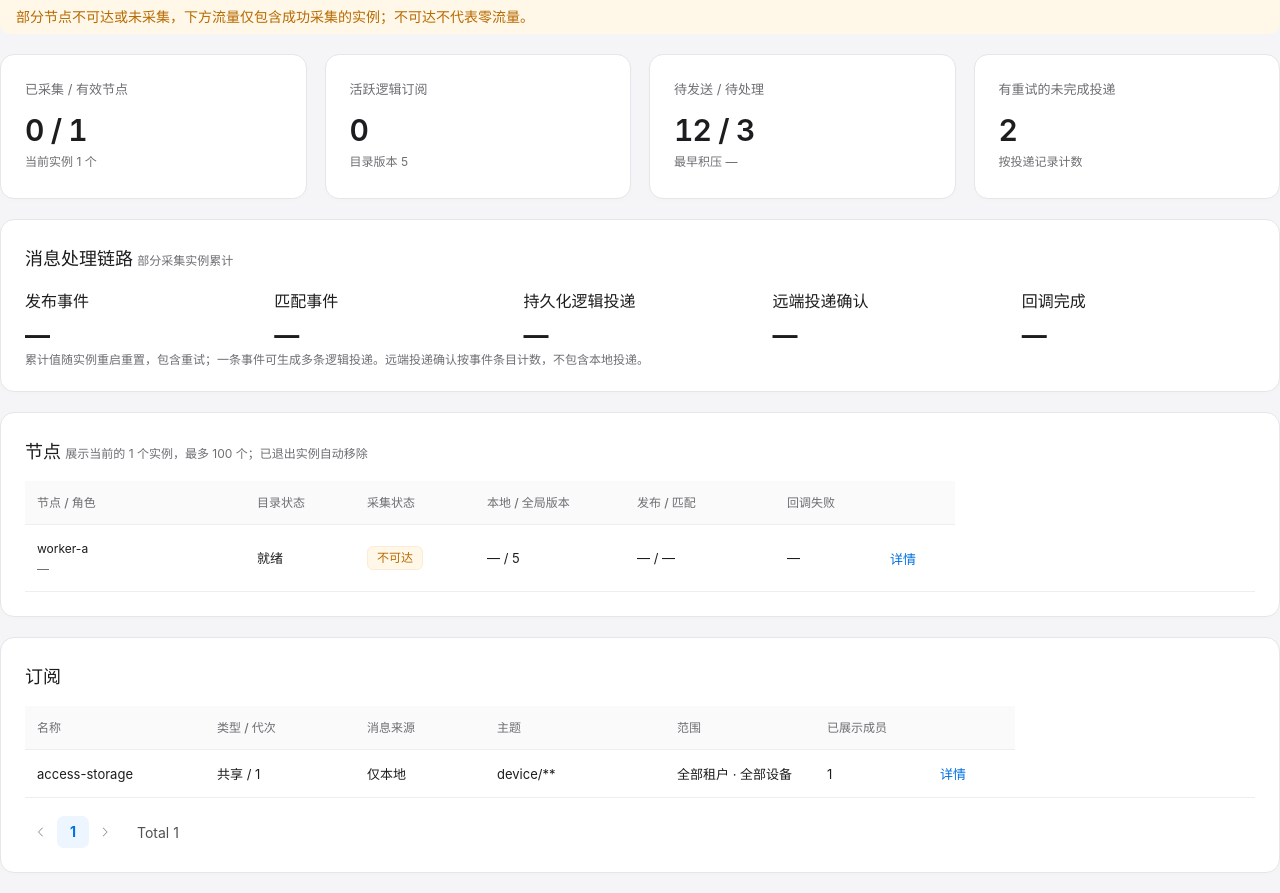
Test case: opens subscription details in an overlay with backlog feedback
The image size is (1280, 893).
(page scrolled)
Click the button "详情" in the row of "access-storage". click: (953, 775)
box: x1=937 y1=765 x2=969 y2=784
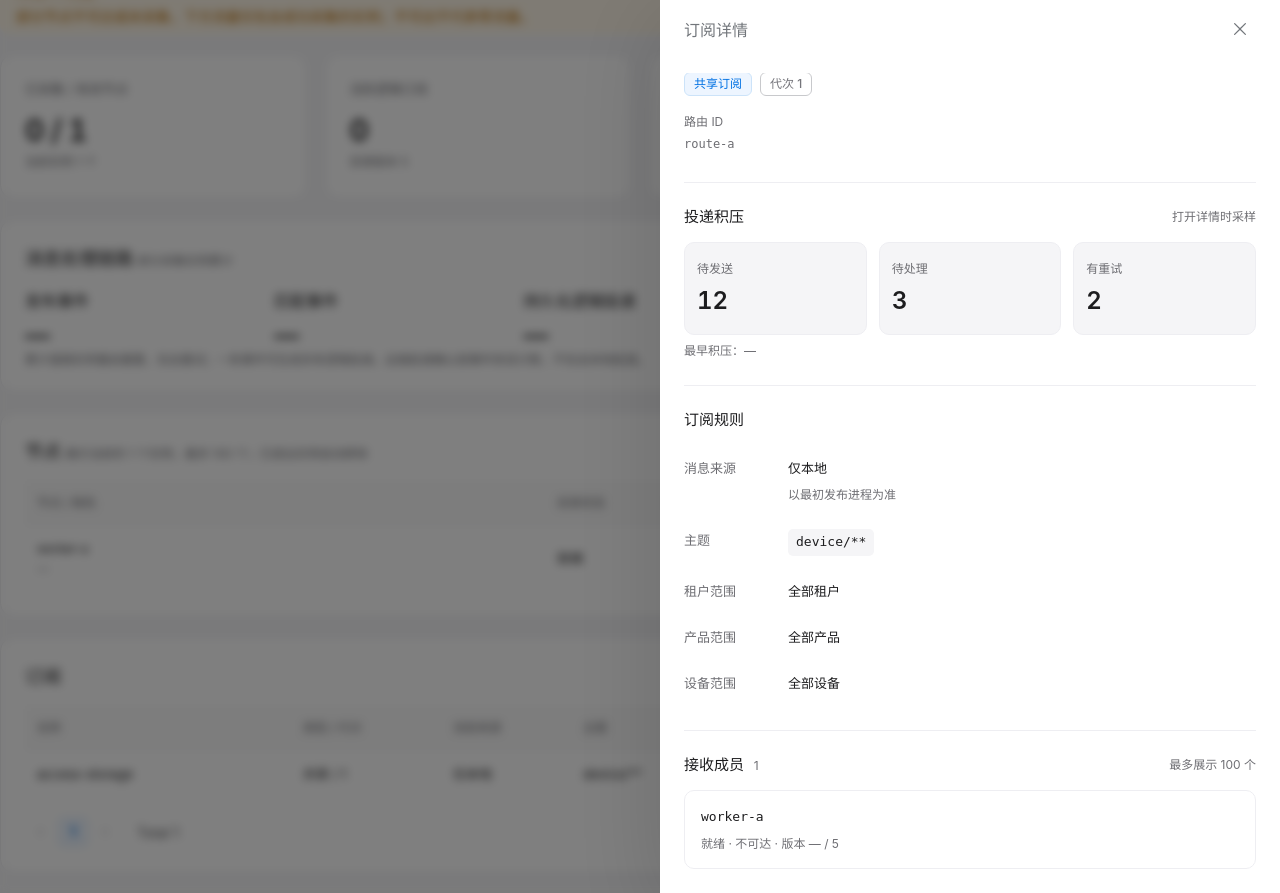
Result: the dialog named "订阅详情" shows "订阅详情" at x1=684 y1=20 x2=748 y2=40
Result: the element with class "subscription-heading" shows "共享订阅" at x1=694 y1=76 x2=742 y2=91
Result: the element with class "subscription-heading" shows "代次 1" at x1=770 y1=76 x2=802 y2=91
